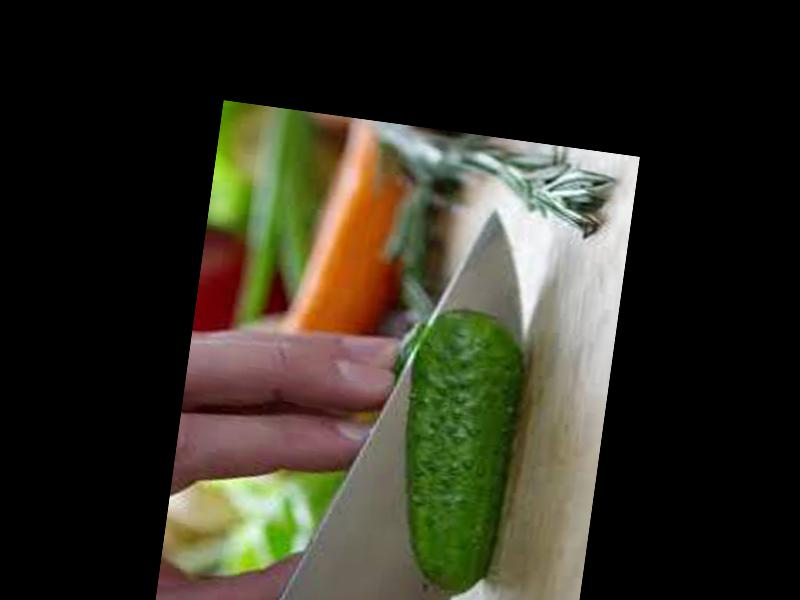Cucumber: (382, 302, 535, 598)
